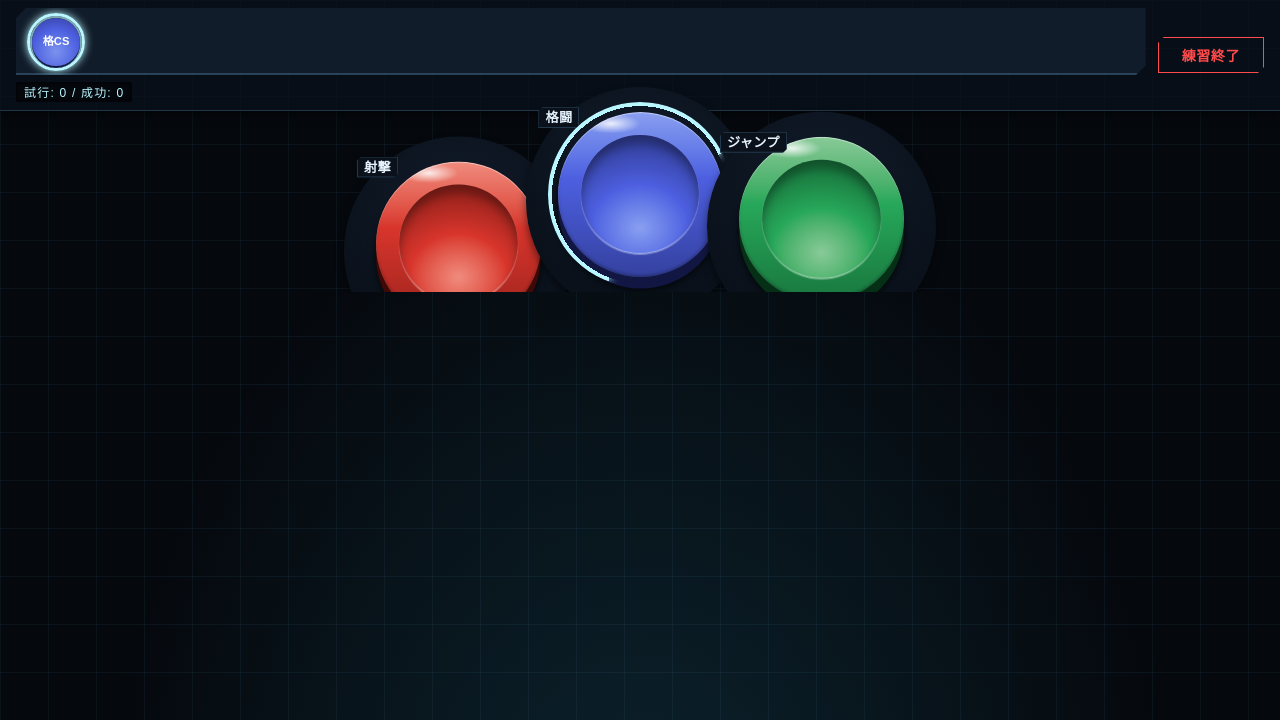
Test: 拡張入力タイプの練習フロー › チャージ（フェイクタイマー） › short押し（300ms未満）は失敗、チャージ開始→離しで成功する
Press the mouse on the button "格闘": (640, 195) [558, 112, 722, 277]
Wait 50 ms
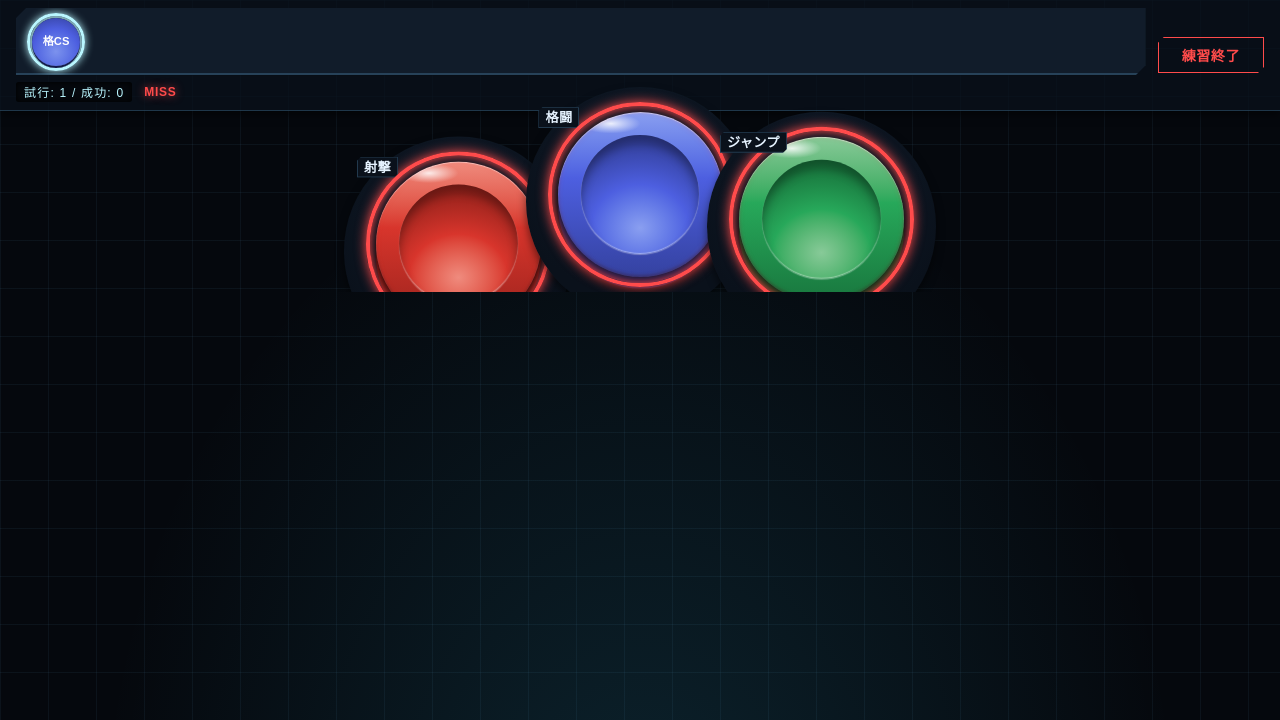
Now the text "MISS" is shown, box [144, 85, 176, 99]
Press the mouse on the button "格闘": (640, 195) [558, 112, 722, 277]
Wait 300 ms
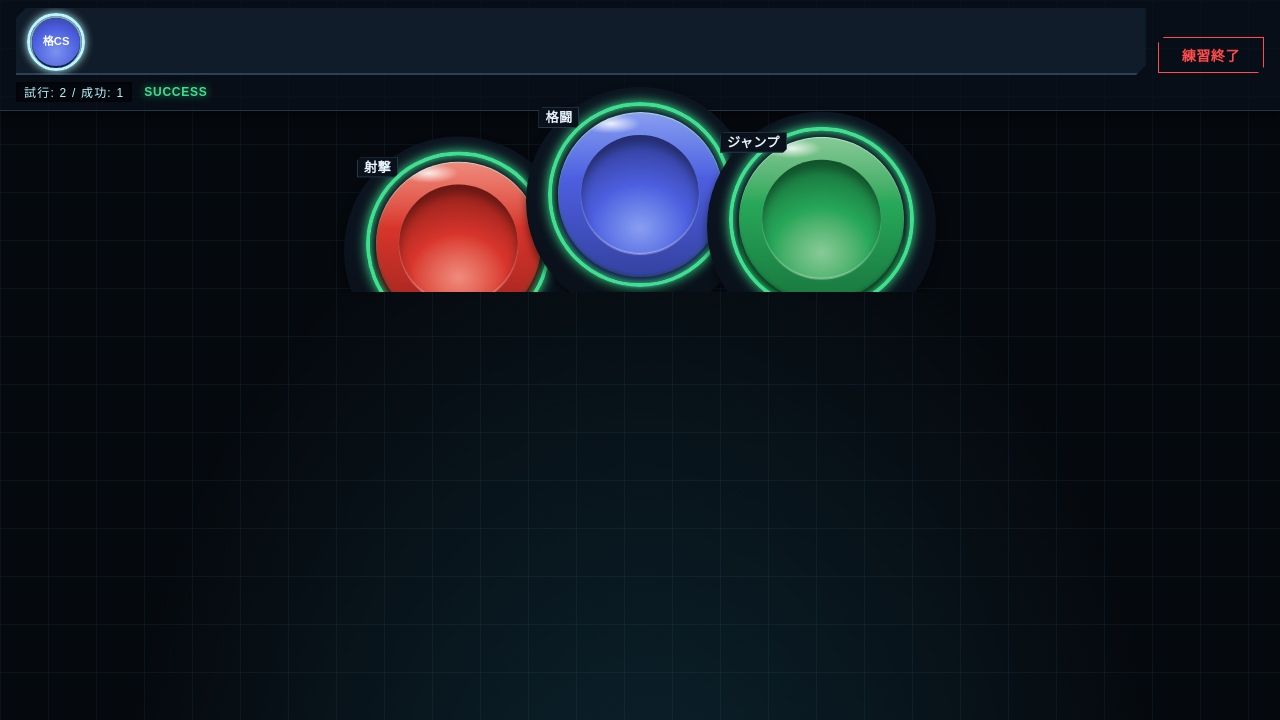
Now the text "SUCCESS" is shown, box [144, 85, 207, 99]
